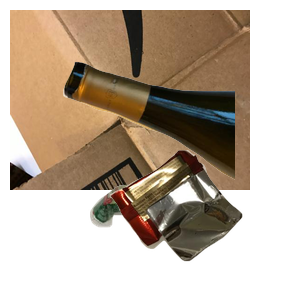cardboard: (10, 10, 250, 190)
glass: (60, 59, 300, 231)
plastic: (88, 182, 242, 300)
trash: (107, 148, 300, 300)
